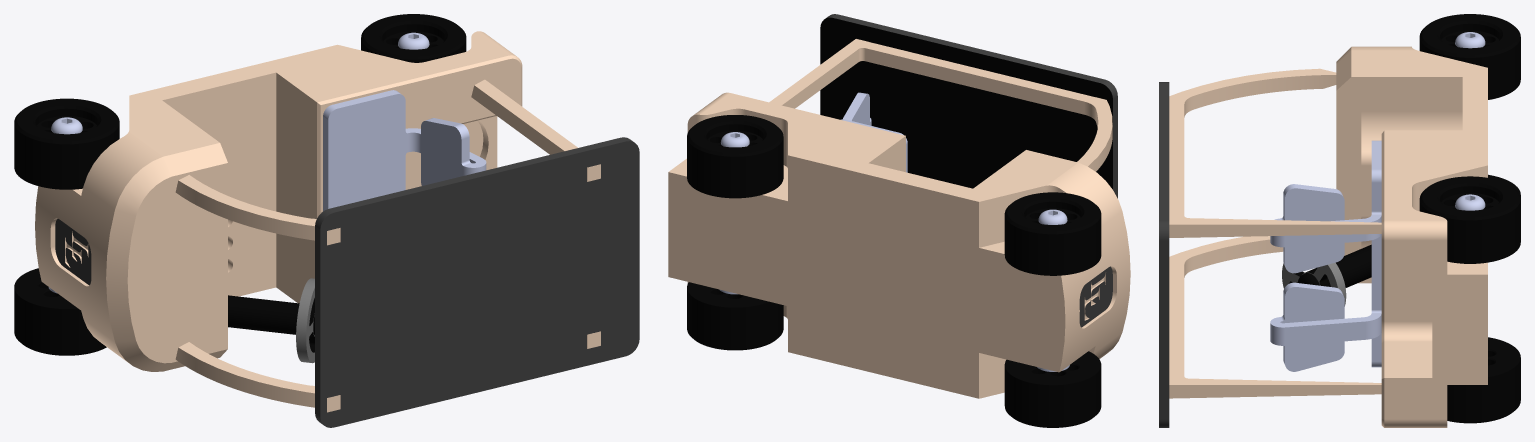
File: simulation.dae
3 views of the same model, side by side, from view 1: azimuth 30°, elevation 25°; view 2: azimuth 150°, elevation 25°; view 3: azimuth 270°, elevation 25° (orthographic). The views are drawn at different scales.
Parts seen in each view (by area): view 1: Actor0; view 2: Actor0; view 3: Actor0.
Part boxes in pixels (box(x1,y1,x2,y2)): Actor0: box(14, 14, 639, 427); Actor0: box(668, 14, 1130, 427); Actor0: box(1159, 14, 1520, 427).
Bounding box in the file's own units: 0.1 × 0.046 × 0.0715.
